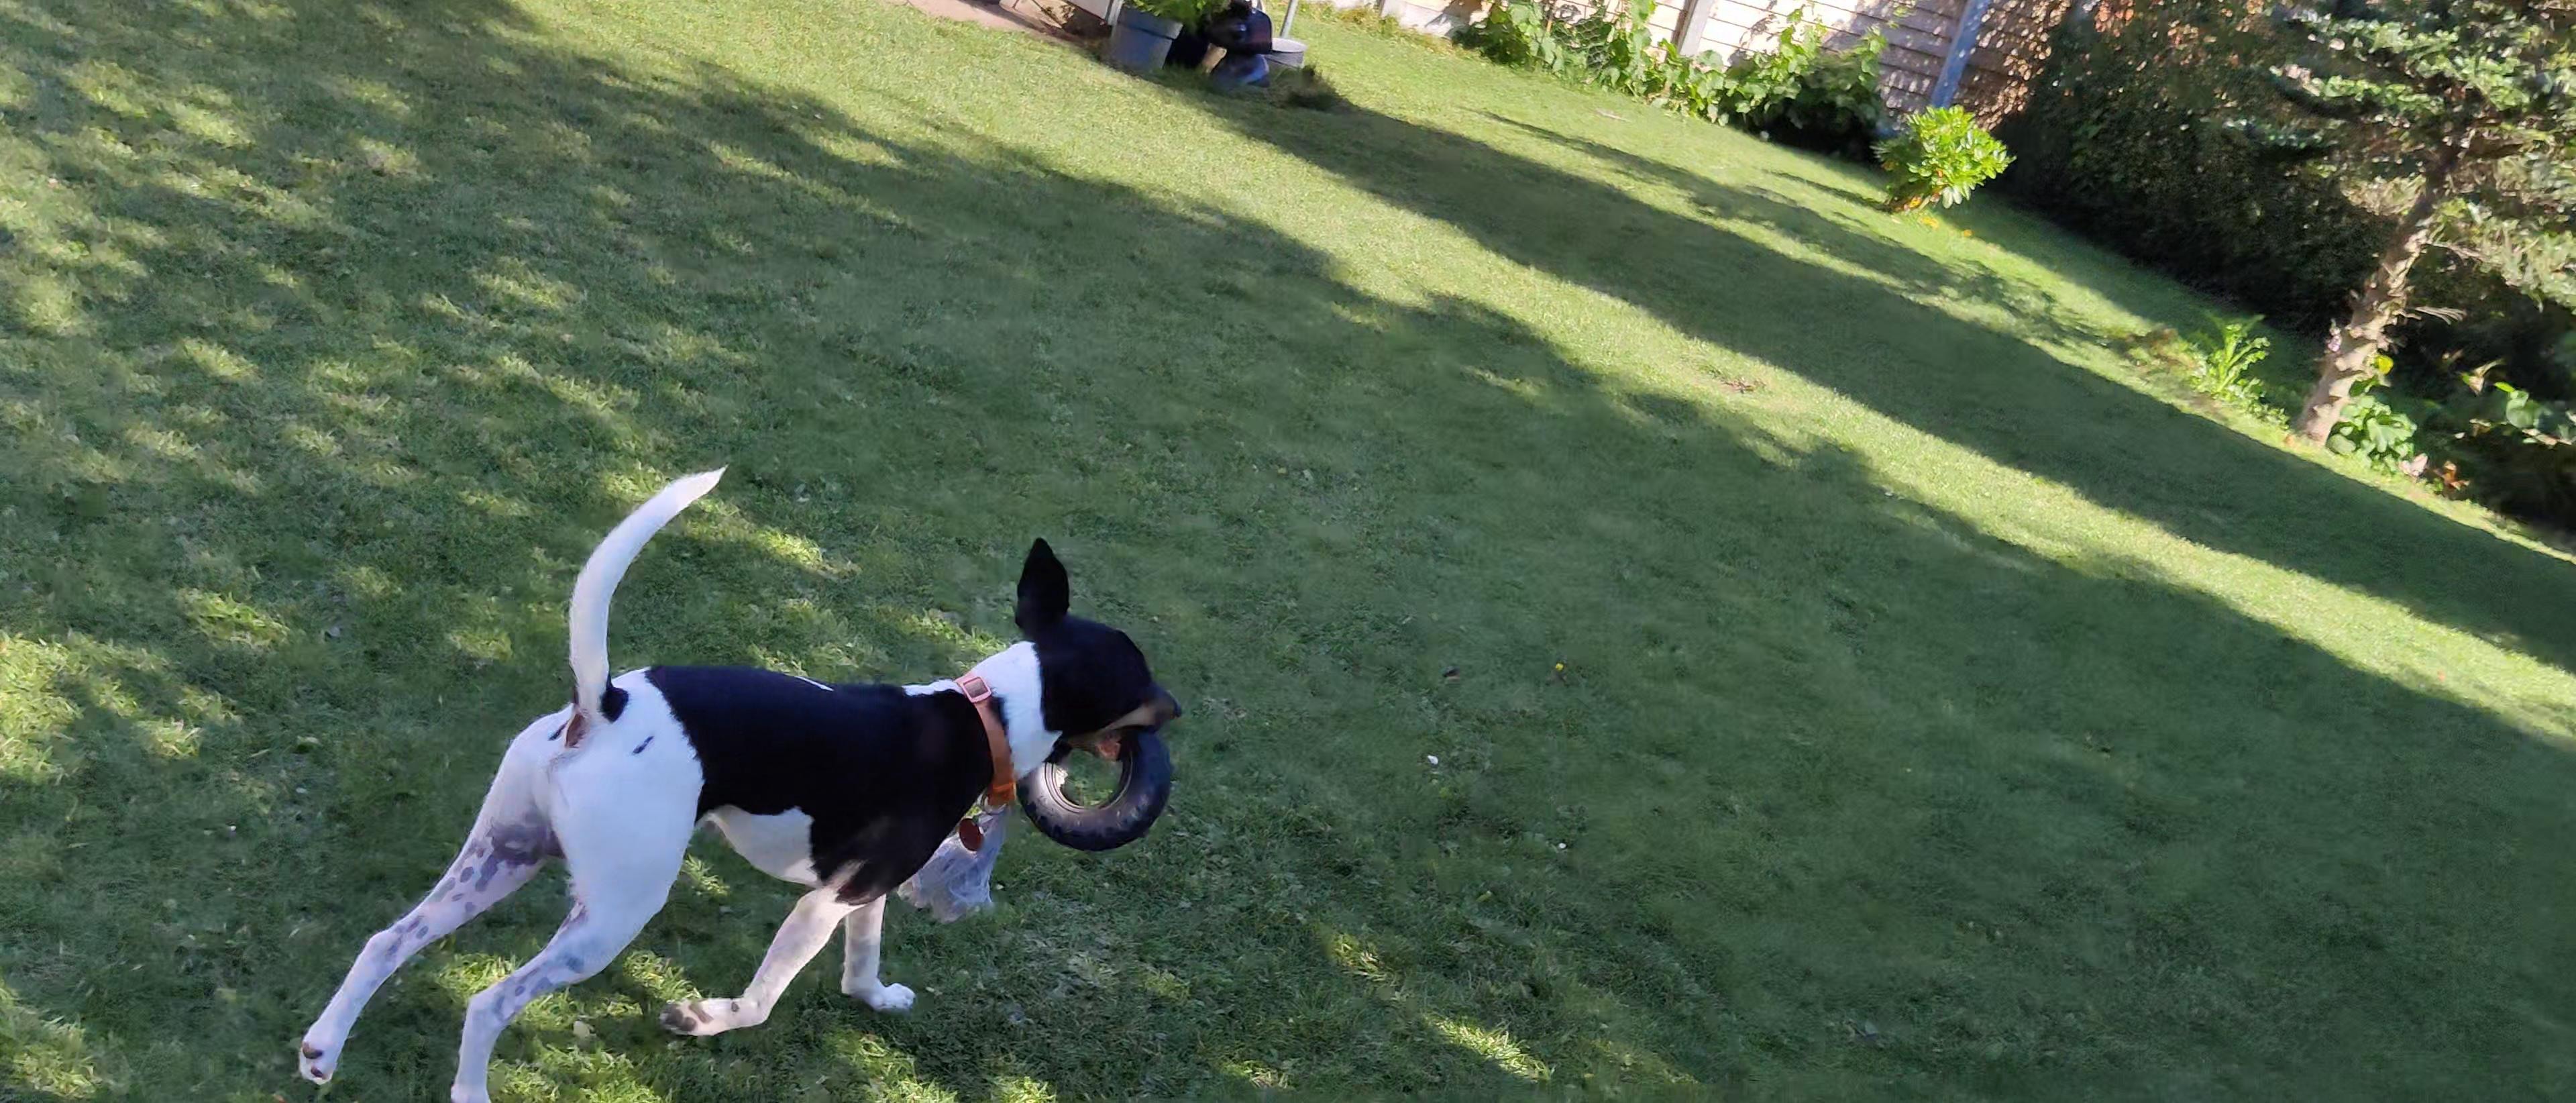Dog: (292, 459, 1189, 1103)
